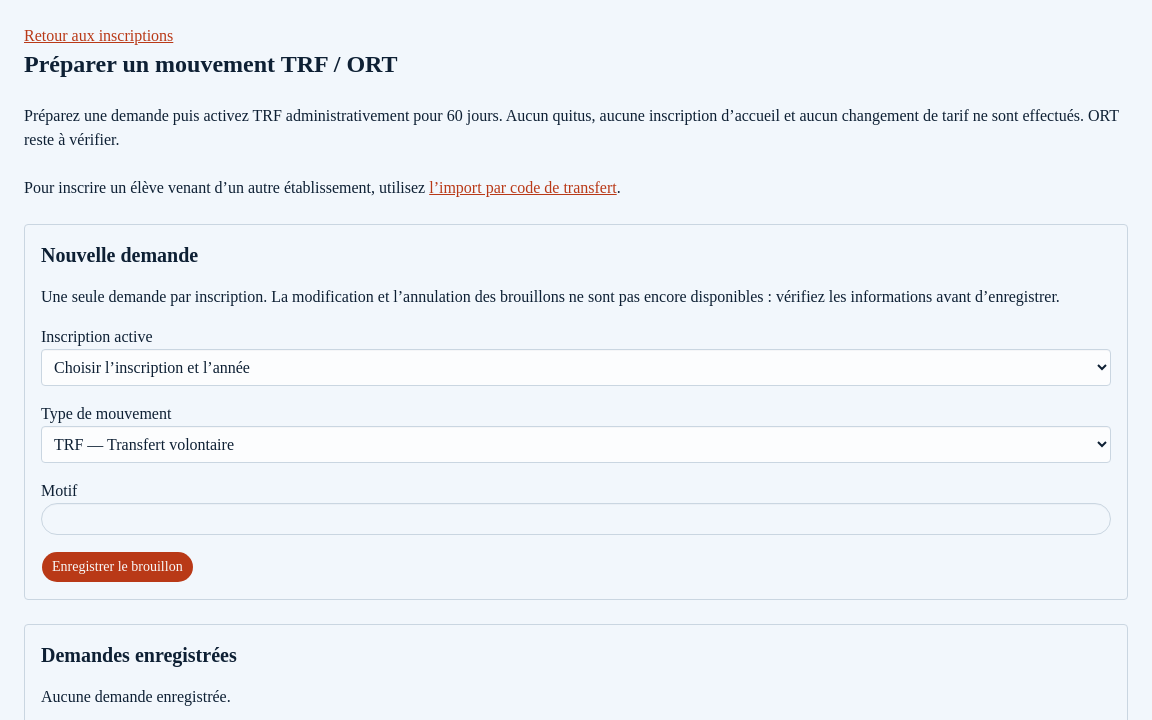
Test: demande les références administratives uniquement pour ORT
Select "ORT — Orientation à vérifier" in the dropdown named "kind": (576, 444) [41,426,1111,463]
(page scrolled)
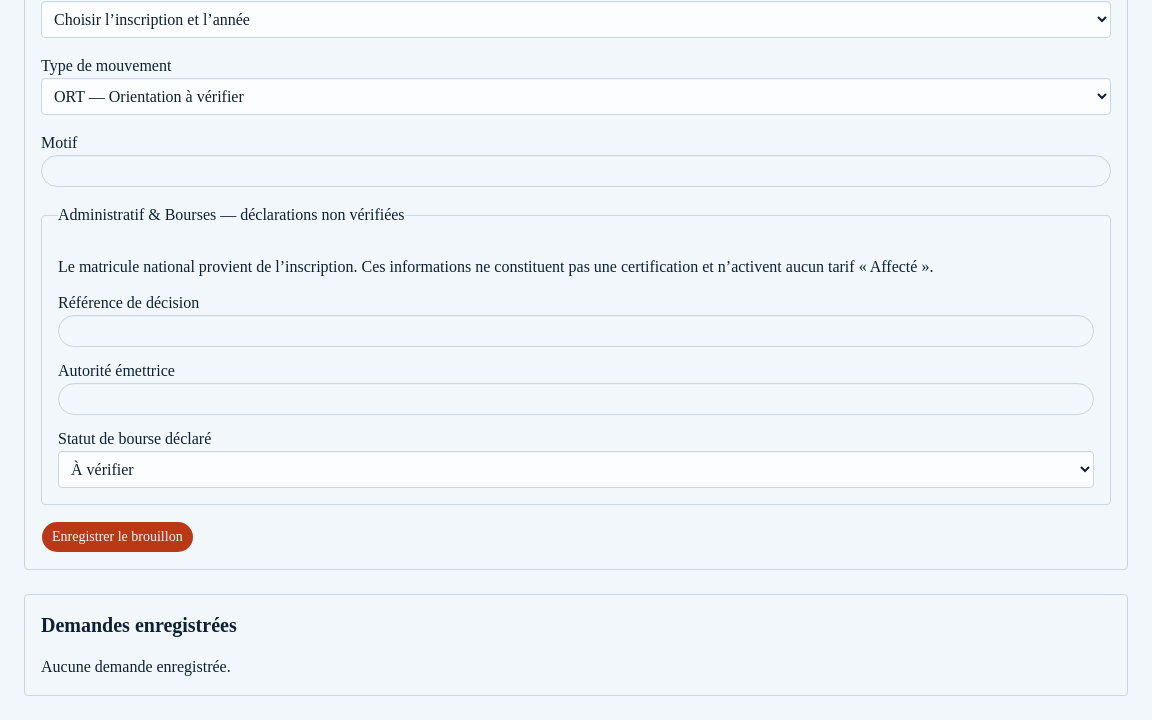
Check: the field named "decisionReference" is shown, box [58,315,1094,347]
Check: the dropdown named "scholarshipStatus" is shown, box [58,451,1094,488]
